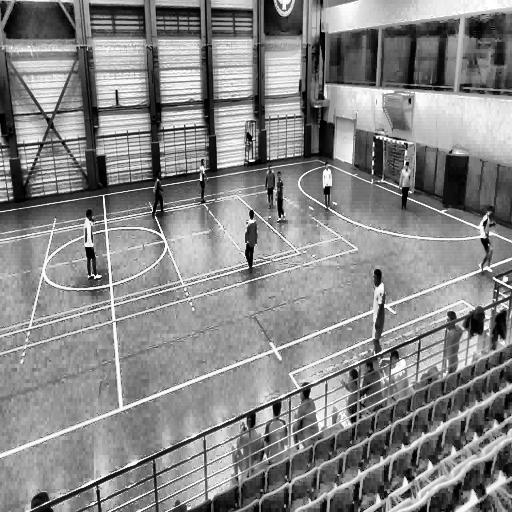ball: (499, 272, 510, 289)
player: (83, 207, 103, 281), (372, 269, 386, 361), (479, 204, 494, 272), (244, 209, 258, 274), (398, 161, 411, 210), (152, 170, 166, 215), (264, 163, 276, 212), (274, 172, 285, 223), (322, 160, 332, 212), (197, 158, 208, 205)
